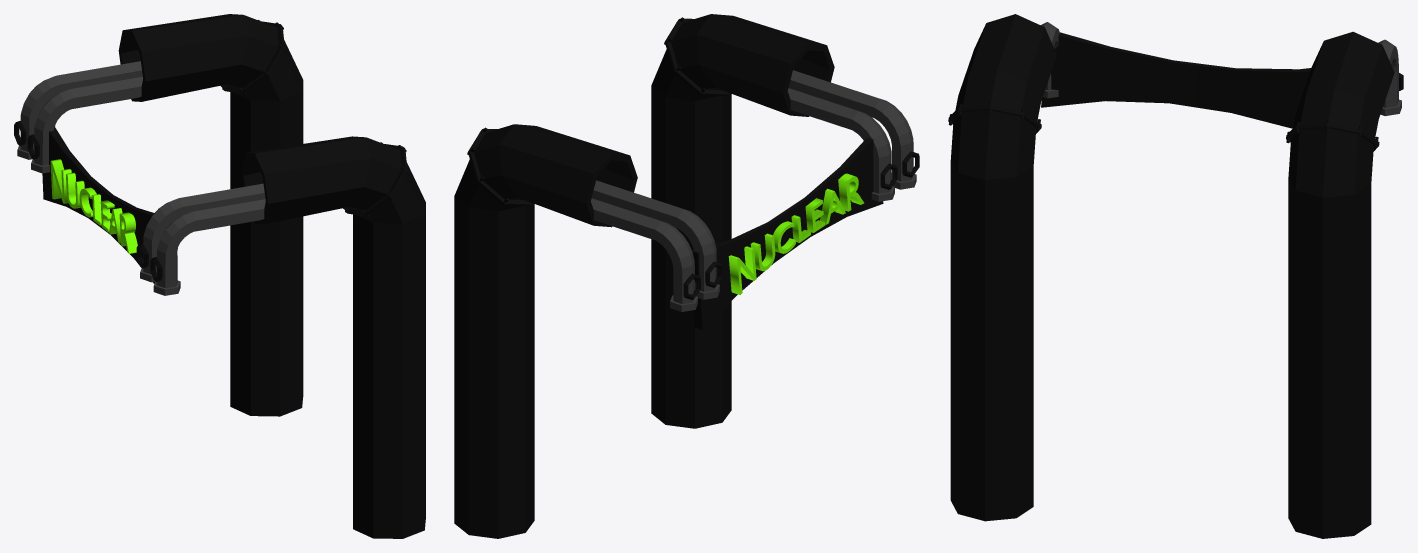
File: nb_barsign.FBX
The picture shows the model from 3 angles, left to right: view 1: azimuth 30°, elevation 25°; view 2: azimuth 150°, elevation 25°; view 3: azimuth 270°, elevation 25°; orthographic projection. The views are drawn at different scales.
Parts seen in each view (by area): view 1: pipe, pipe001, Nuclear, pipe2.002, pipe2.003, pipe2.001, pipe2.004; view 2: pipe001, pipe, Nuclear, pipe2.002, pipe2.003, pipe2.004, pipe2.001; view 3: pipe, pipe001, Nuclear, pipe2.004.
Part boxes in pixels (bbox=[...]): pipe: bbox=[241, 136, 425, 538]; pipe001: bbox=[118, 14, 303, 416]; Nuclear: bbox=[42, 127, 154, 283]; pipe2.002: bbox=[153, 199, 265, 295]; pipe2.003: bbox=[31, 76, 142, 173]; pipe2.001: bbox=[140, 183, 265, 282]; pipe2.004: bbox=[17, 61, 142, 159]; pipe001: bbox=[454, 124, 637, 538]; pipe: bbox=[651, 14, 834, 428]; Nuclear: bbox=[691, 137, 883, 329]; pipe2.002: bbox=[788, 70, 916, 189]; pipe2.003: bbox=[591, 180, 719, 299]; pipe2.004: bbox=[591, 198, 697, 311]; pipe2.001: bbox=[787, 88, 894, 201]; pipe: bbox=[948, 14, 1056, 521]; pipe001: bbox=[1286, 31, 1394, 538]; Nuclear: bbox=[1041, 32, 1311, 128]; pipe2.004: bbox=[1378, 39, 1401, 116].
Size of the model in its own units: 504 by 646 by 629.
